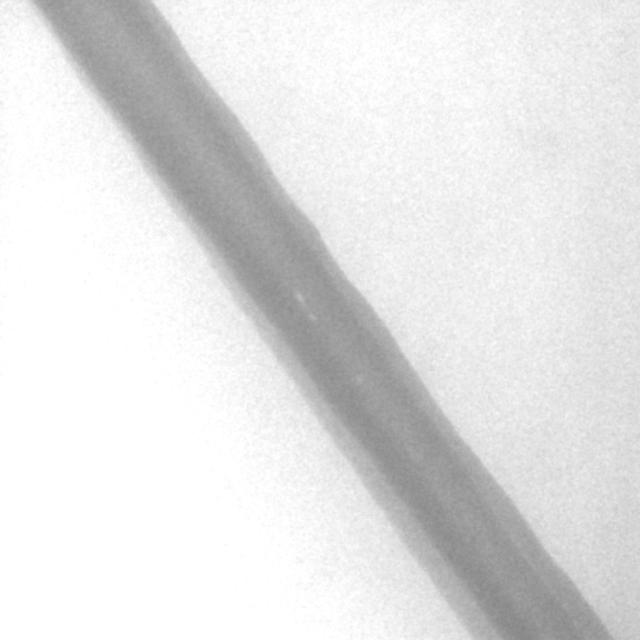air hole: (293, 290, 304, 306), (307, 311, 318, 325)
